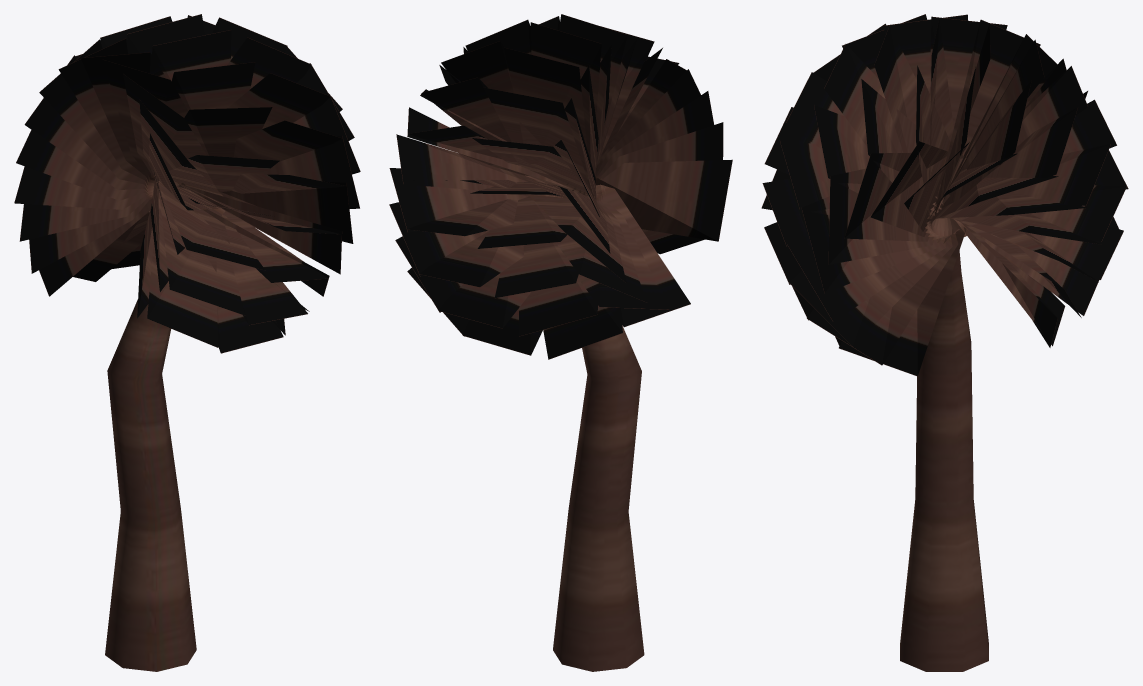
Rendered from Canyon_Tree_3.glb.
The picture shows the model from 3 angles, left to right: view 1: azimuth 30°, elevation 25°; view 2: azimuth 150°, elevation 25°; view 3: azimuth 270°, elevation 25°; orthographic projection. The views are drawn at different scales.
Visible parts, largest first — view 1: Canyon_Tree_3_1, Canyon_Tree_3_0; view 2: Canyon_Tree_3_1, Canyon_Tree_3_0; view 3: Canyon_Tree_3_1, Canyon_Tree_3_0.
Boxes of the visible parts, x1,y1,x2,y2 form: Canyon_Tree_3_1: [14, 14, 360, 353]; Canyon_Tree_3_0: [105, 299, 196, 671]; Canyon_Tree_3_1: [389, 14, 732, 359]; Canyon_Tree_3_0: [553, 325, 644, 671]; Canyon_Tree_3_1: [761, 14, 1128, 376]; Canyon_Tree_3_0: [900, 250, 988, 671].
Bounding box in the file's own units: 1.56 × 3.34 × 1.75.
2 materials, 2 textured.
